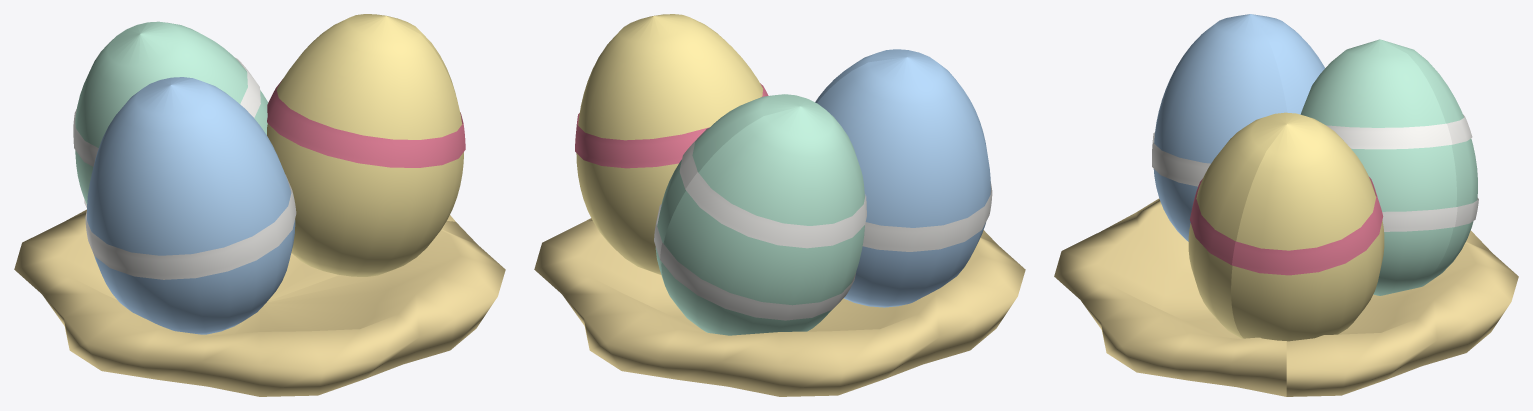
Rendered from eggs.glb.
3 renders of one model, left to right at view 1: azimuth 30°, elevation 25°; view 2: azimuth 150°, elevation 25°; view 3: azimuth 270°, elevation 25°, orthographic. The views are drawn at different scales.
Size of the model in its own units: 1.06 by 0.7072 by 1.1.
